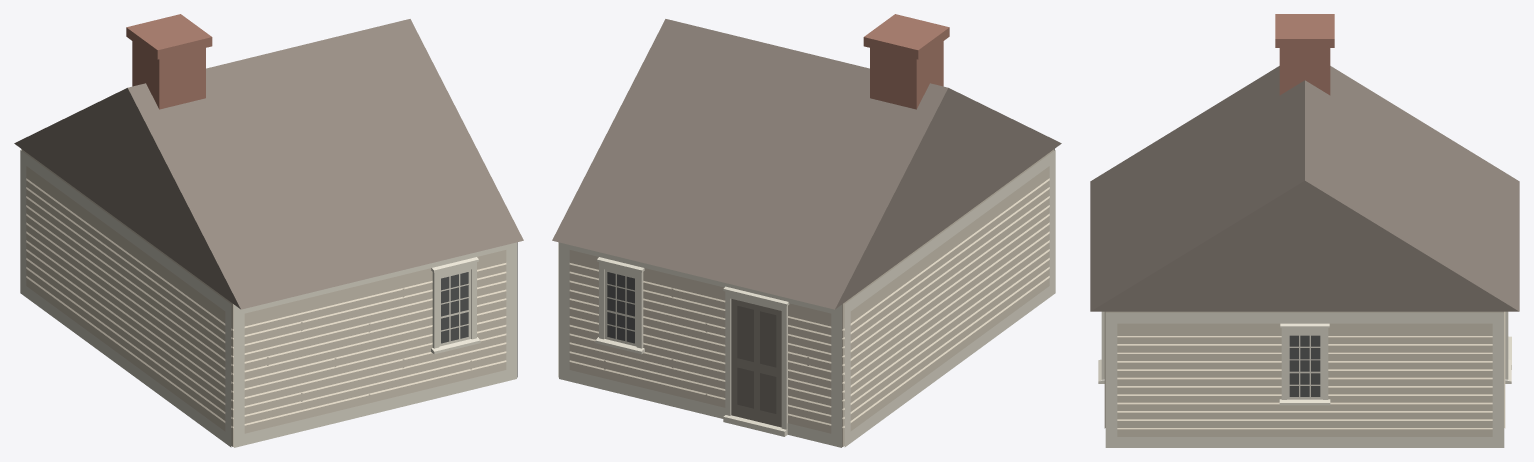
File: recon_1835_blk_washington_clark_d3_15__inferred_1835.glb
3 renders of one model, left to right at view 1: azimuth 30°, elevation 25°; view 2: azimuth 150°, elevation 25°; view 3: azimuth 270°, elevation 25°, orthographic. The views are drawn at different scales.
Parts seen in each view (by area): view 1: recon_1835_blk_washington_clark_d3_15__inferred_1835; view 2: recon_1835_blk_washington_clark_d3_15__inferred_1835; view 3: recon_1835_blk_washington_clark_d3_15__inferred_1835.
Boxes of the visible parts, x1,y1,x2,y2 form: recon_1835_blk_washington_clark_d3_15__inferred_1835: (14,14,523,447); recon_1835_blk_washington_clark_d3_15__inferred_1835: (552,14,1061,447); recon_1835_blk_washington_clark_d3_15__inferred_1835: (1090,14,1519,447).
Size of the model in its own units: 5.24 by 5.63 by 7.07.
